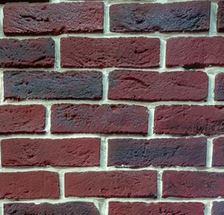brick: (1, 1, 105, 34), (108, 68, 209, 101), (58, 36, 161, 68), (1, 136, 102, 168), (108, 1, 212, 30), (4, 70, 103, 100), (50, 104, 149, 134), (107, 137, 207, 166), (63, 168, 160, 197), (154, 103, 224, 136), (161, 168, 224, 198), (165, 36, 224, 68), (1, 36, 57, 67), (1, 171, 60, 199), (1, 103, 48, 135), (1, 200, 100, 213), (106, 202, 207, 213)
